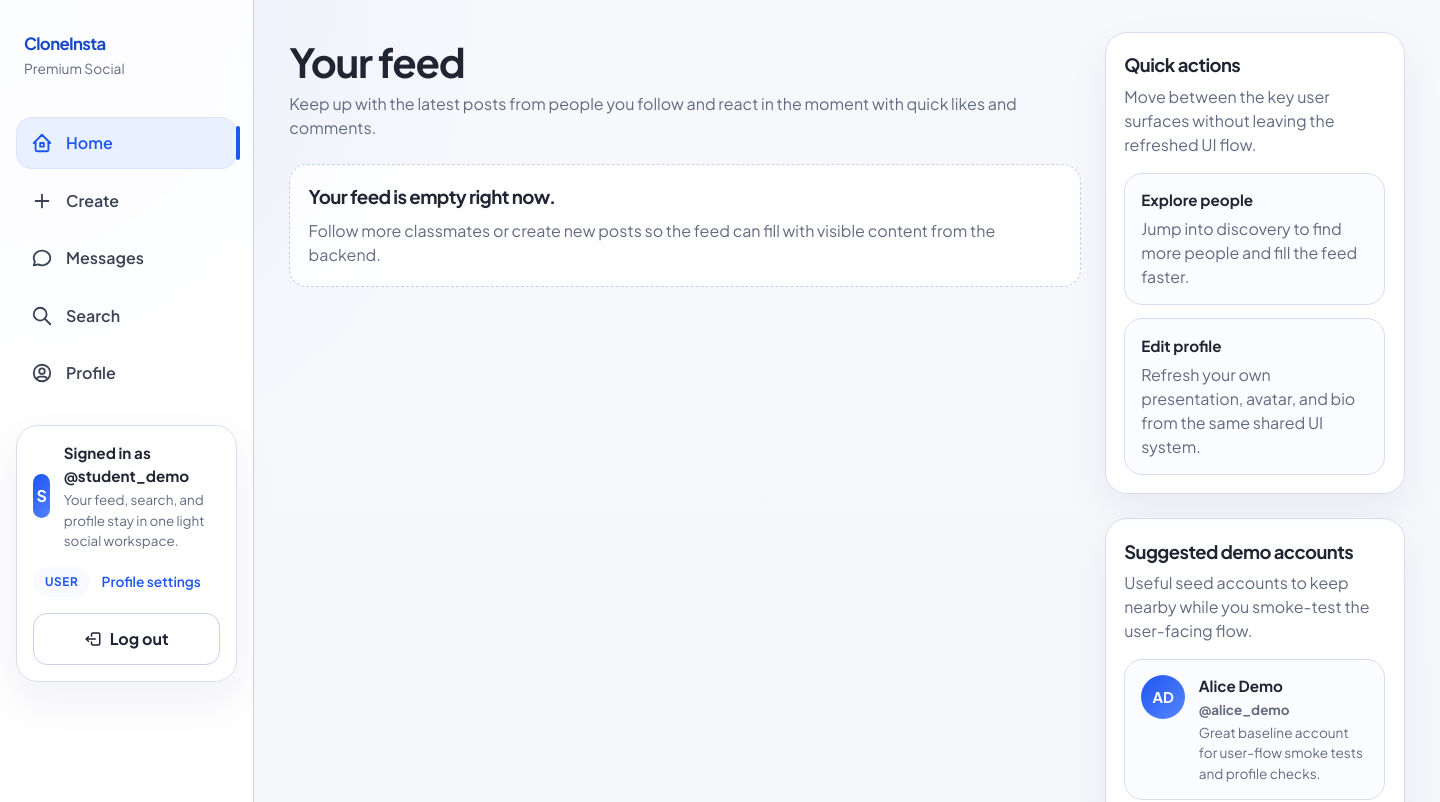
Test: App › logs out an authenticated session and redirects back to login
Expected: the heading "Your feed" is shown, 289,36 -> 464,87
Click the button "Log out" at (126, 639), box 33,613 -> 220,664
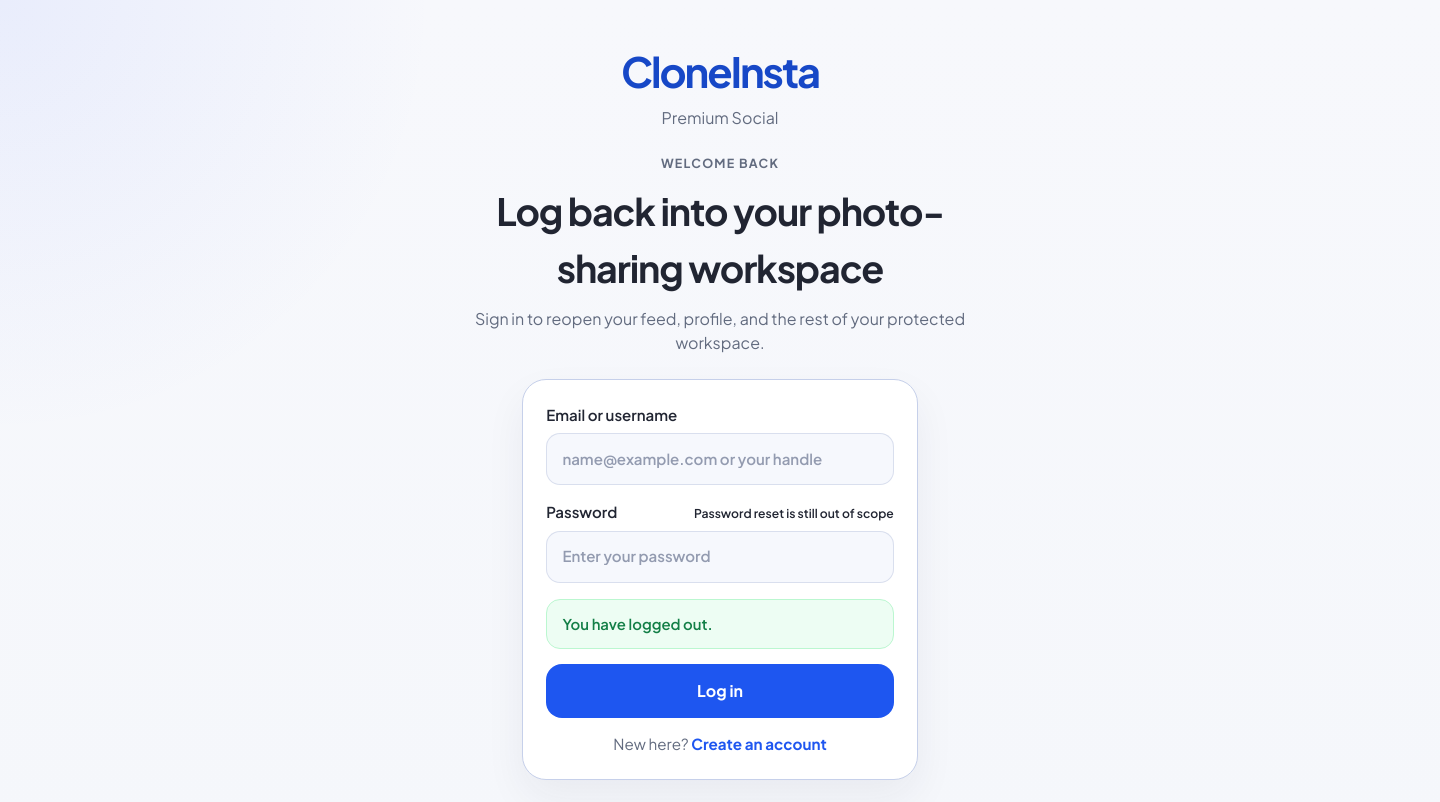
Expected: the heading "Log back into your photo-sharing workspace" is shown, 460,184 -> 980,296
Expected: the message reads "You have logged out.", 562,615 -> 713,633
